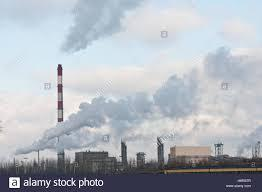smoke: (6, 54, 262, 153), (48, 0, 147, 54)
